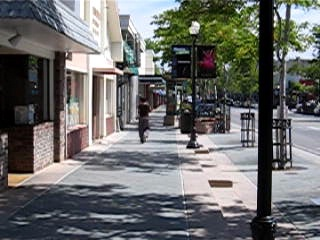person: (137, 97, 152, 144), (136, 97, 151, 144), (138, 97, 153, 144), (137, 96, 152, 143), (137, 98, 152, 145)
target_negative: (183, 13, 310, 171), (35, 58, 115, 141), (210, 119, 317, 154), (72, 178, 272, 187), (91, 175, 130, 215), (177, 136, 184, 238)
